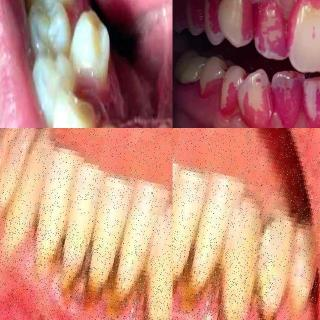calculus: (199, 258, 236, 317), (124, 265, 160, 320), (43, 234, 75, 276), (68, 240, 100, 280), (175, 248, 201, 294), (100, 256, 126, 300), (252, 286, 282, 320)
maligned: (63, 6, 125, 84), (237, 67, 277, 128), (211, 0, 256, 48)
